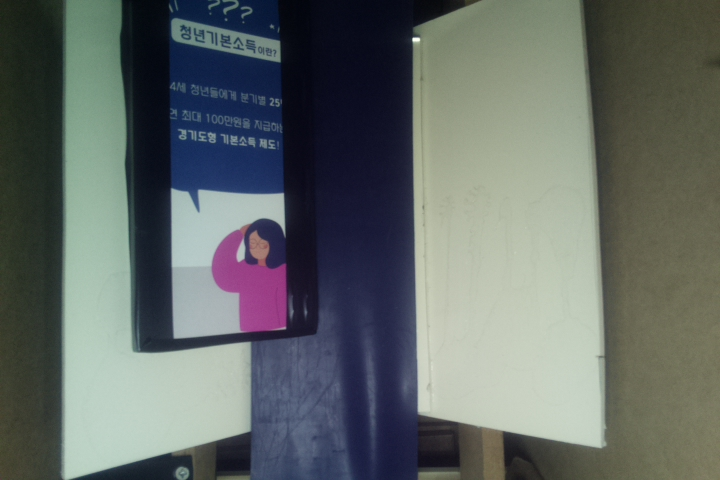book: (119, 1, 319, 354)
